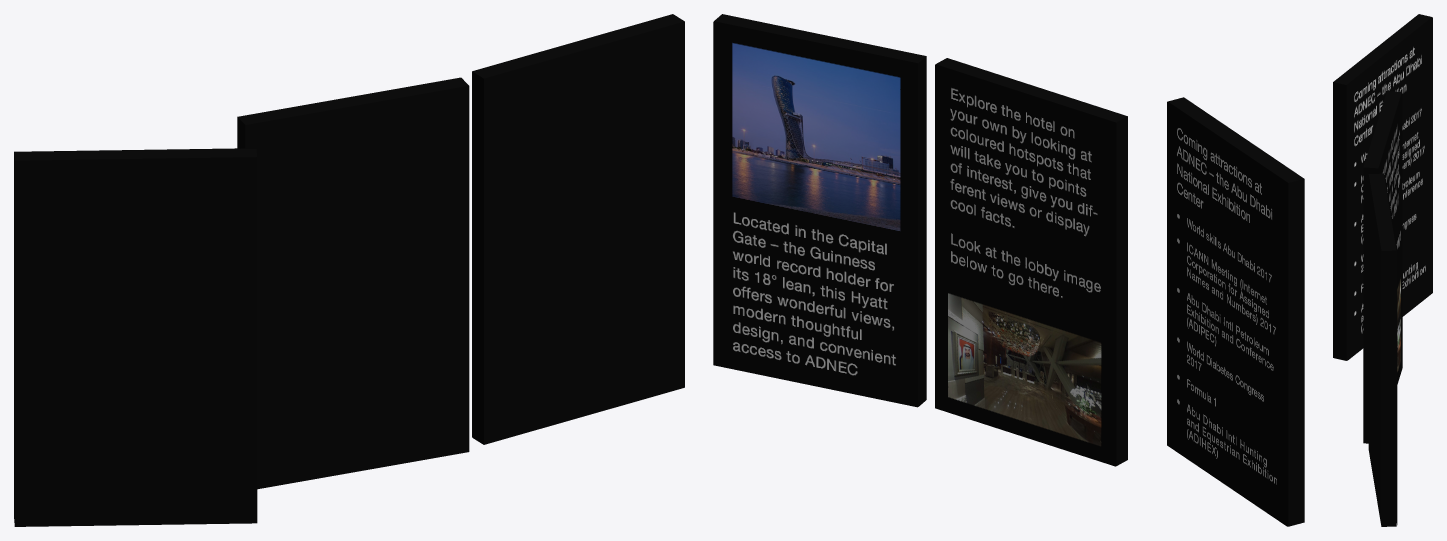
The model's file is startObject.fbx.
The picture shows the model from 3 angles, left to right: view 1: azimuth 30°, elevation 25°; view 2: azimuth 150°, elevation 25°; view 3: azimuth 270°, elevation 25°; orthographic projection. The views are drawn at different scales.
Visible parts, largest first — view 1: Pane_Right, Pane_Center, Pane_Left; view 2: Quad_Left, Quad_Center, Quad_Right, Pane_Right, Pane_Center, Pane_Left; view 3: Quad_Right, Pane_Left, Pane_Right, Pane_Center, Quad_Center, Quad_Left.
Boxes of the visible parts, x1,y1,x2,y2 form: Pane_Right: [14, 148, 257, 526]; Pane_Center: [237, 78, 469, 489]; Pane_Left: [472, 14, 684, 444]; Quad_Left: [713, 21, 917, 407]; Quad_Center: [935, 64, 1115, 466]; Quad_Right: [1167, 102, 1287, 526]; Pane_Right: [1167, 97, 1304, 526]; Pane_Center: [935, 58, 1127, 466]; Pane_Left: [714, 14, 926, 406]; Quad_Right: [1347, 17, 1432, 360]; Pane_Left: [1368, 173, 1396, 526]; Pane_Right: [1333, 14, 1432, 360]; Pane_Center: [1363, 91, 1401, 443]; Quad_Center: [1379, 93, 1402, 384]; Quad_Left: [1384, 175, 1397, 524].
Bounding box in the file's own units: 22124 × 12000 × 3936.
